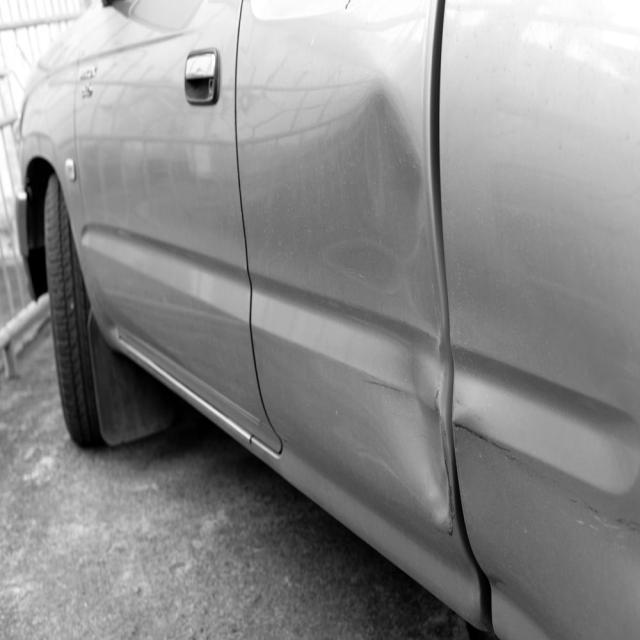dent: (336, 69, 471, 539)
scratch: (453, 395, 640, 545), (429, 368, 459, 542), (362, 378, 405, 394)
